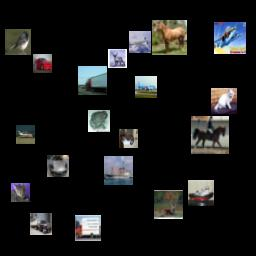airplane: (214, 22, 246, 54), (135, 76, 157, 98), (129, 31, 151, 53), (16, 125, 35, 144)
automobile: (47, 155, 69, 177), (33, 54, 52, 73)
bird: (5, 29, 31, 55)
cat: (211, 88, 237, 114), (11, 183, 30, 202), (119, 129, 138, 148)
deer: (154, 190, 183, 219), (108, 49, 127, 68)
frog: (88, 110, 110, 132)
ship: (104, 156, 133, 185), (188, 180, 214, 206)
truck: (78, 66, 107, 95), (75, 215, 101, 241), (30, 213, 52, 235)
